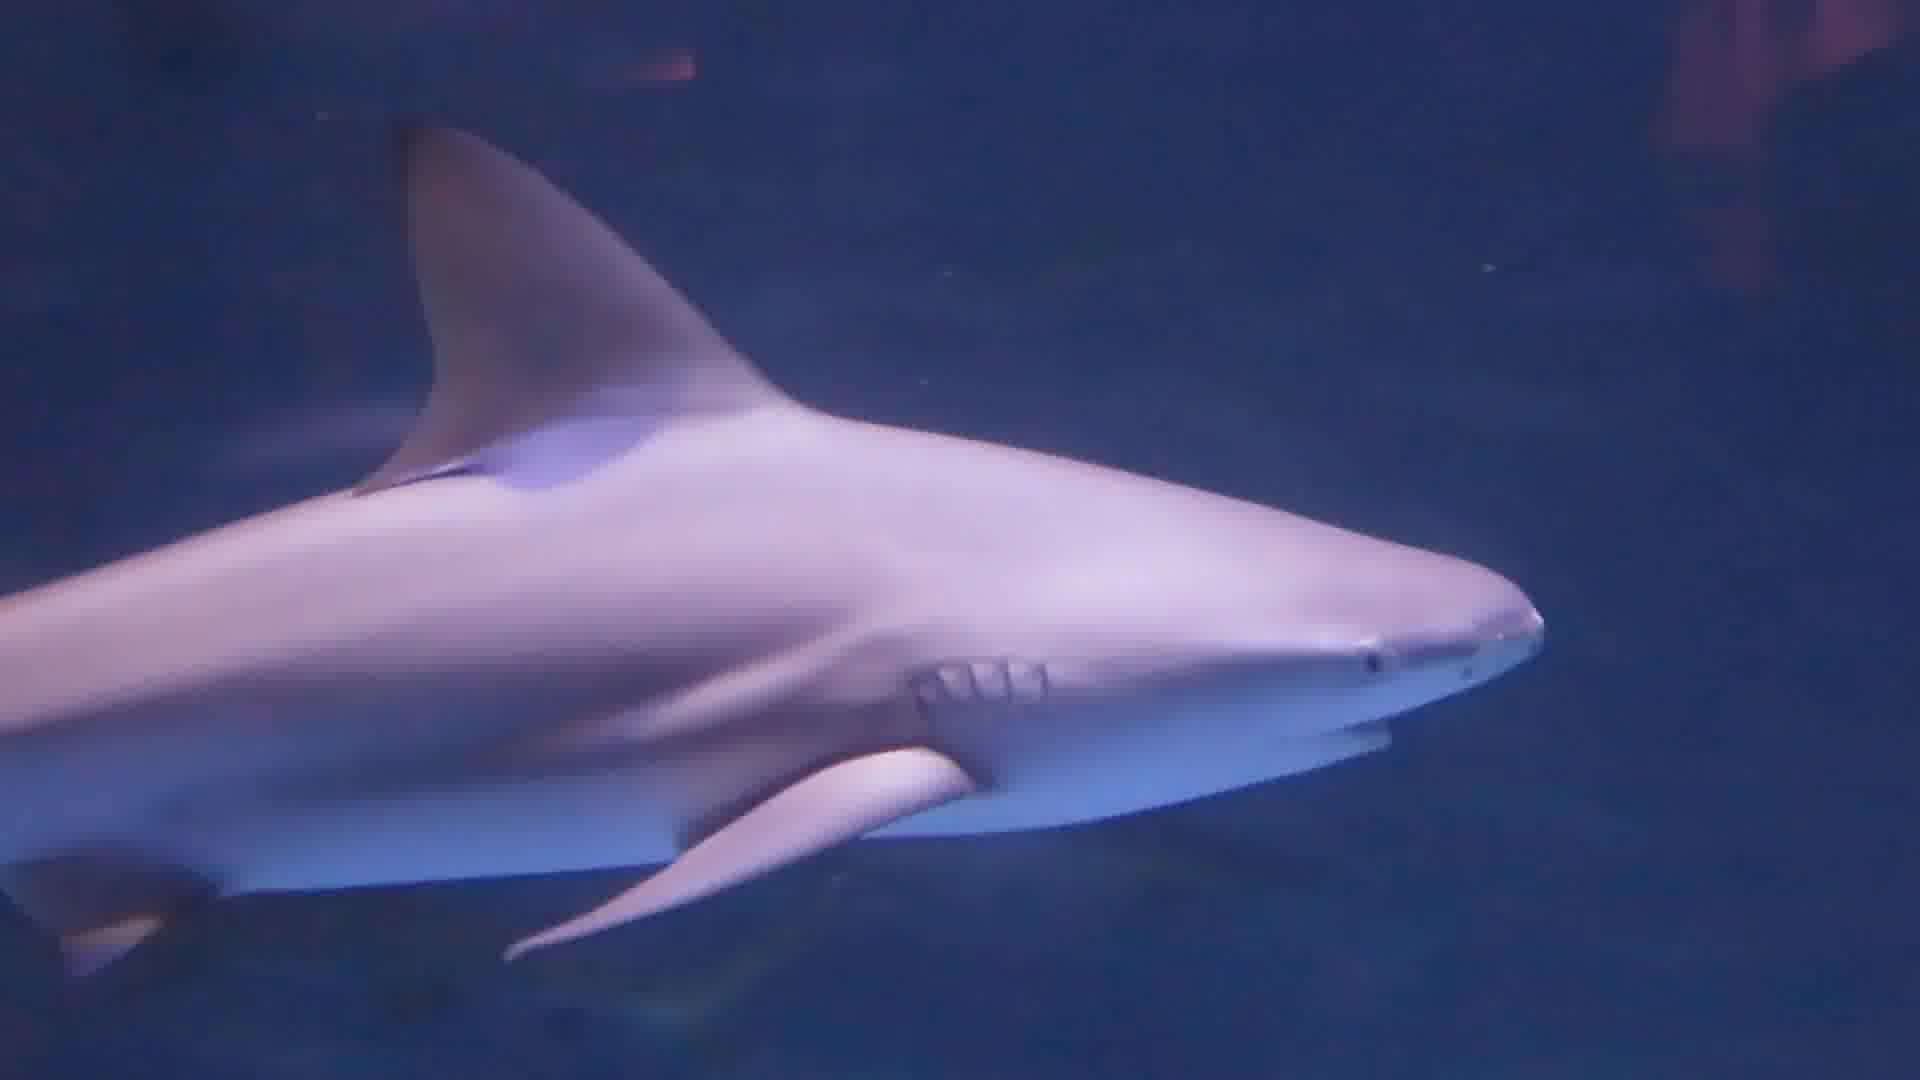Carcharhinus leucas: (28, 98, 1551, 971)
